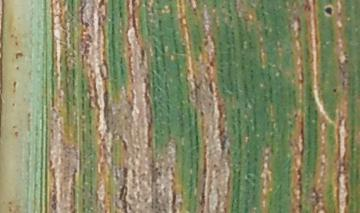tarspot: (321, 5, 336, 19), (330, 86, 339, 96)
